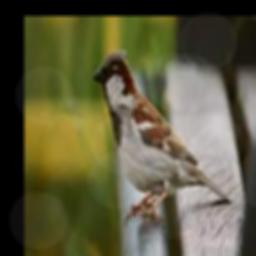Sparrow: (93, 51, 232, 226)
